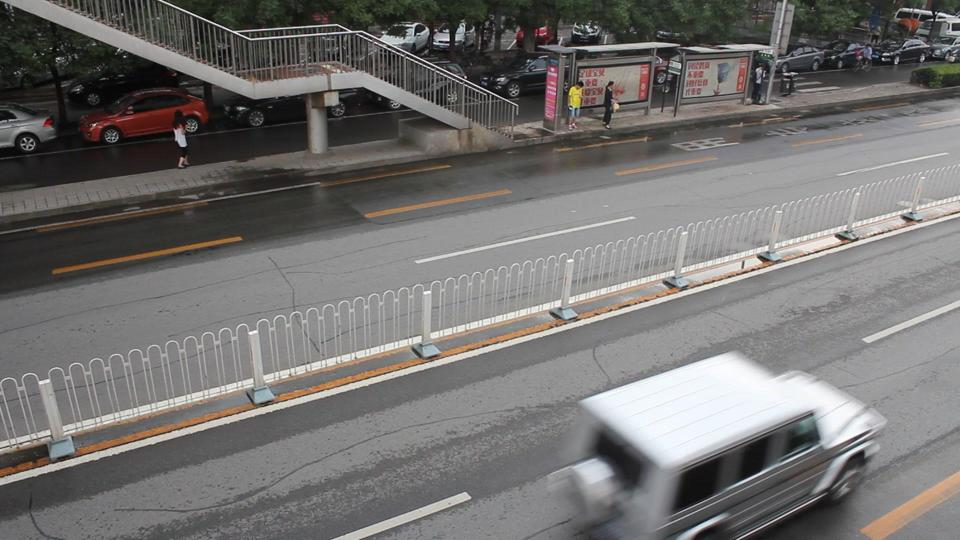Car: (558, 350, 882, 540), (72, 89, 204, 146), (214, 77, 353, 122), (472, 51, 586, 101), (360, 61, 464, 111), (1, 105, 56, 154)
